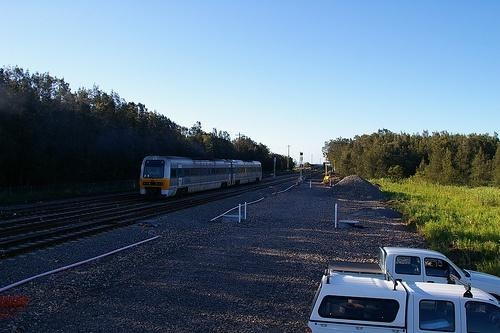car: (307, 266, 500, 333), (326, 247, 500, 307)
train: (139, 158, 264, 199)
